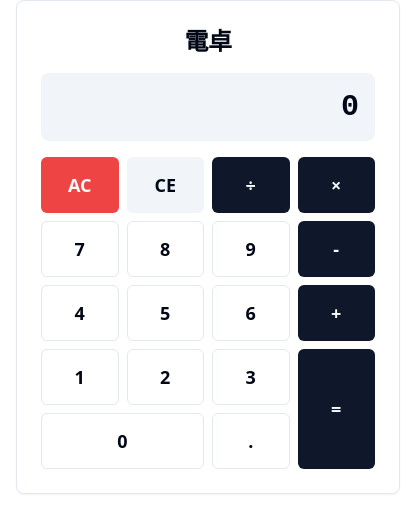
Test: Calculator Component Integration Tests › Decimal Operations › should handle decimal input
Click the button "3": [251, 377] box [212,349,290,405]
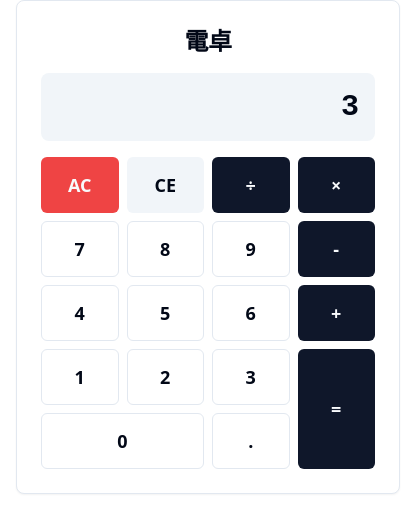
Click the button ".": [251, 441] box [212,413,290,469]
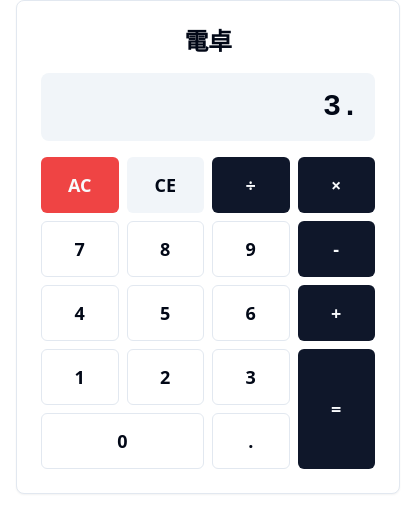
Click the button "1": [80, 377] box [41,349,118,405]
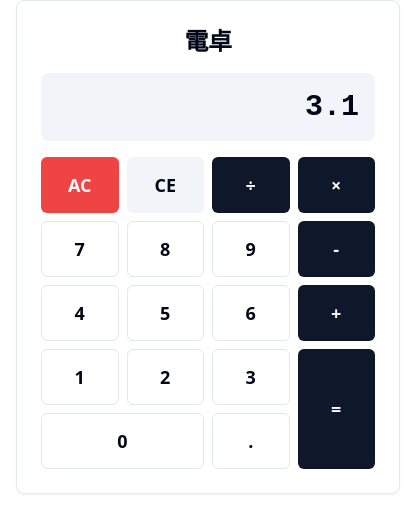
Click the button "4": [80, 313] box [41,285,118,341]
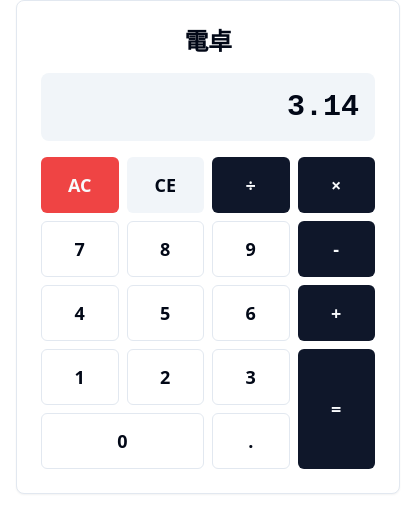
Now the text "3.14" is shown, box [287,90,359,124]
